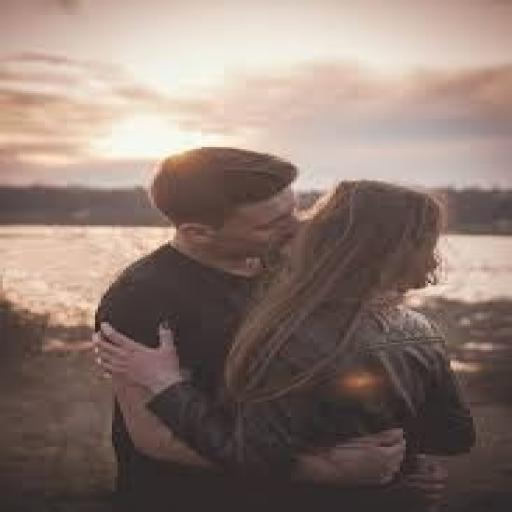hugging: (90, 145, 478, 510)
